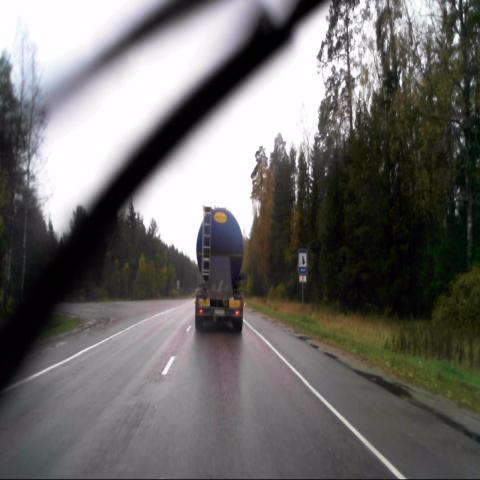7_11: (298, 252, 307, 276)
